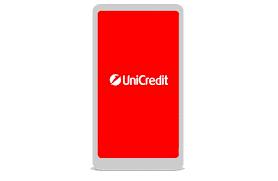Smartphone: (93, 7, 181, 171)
